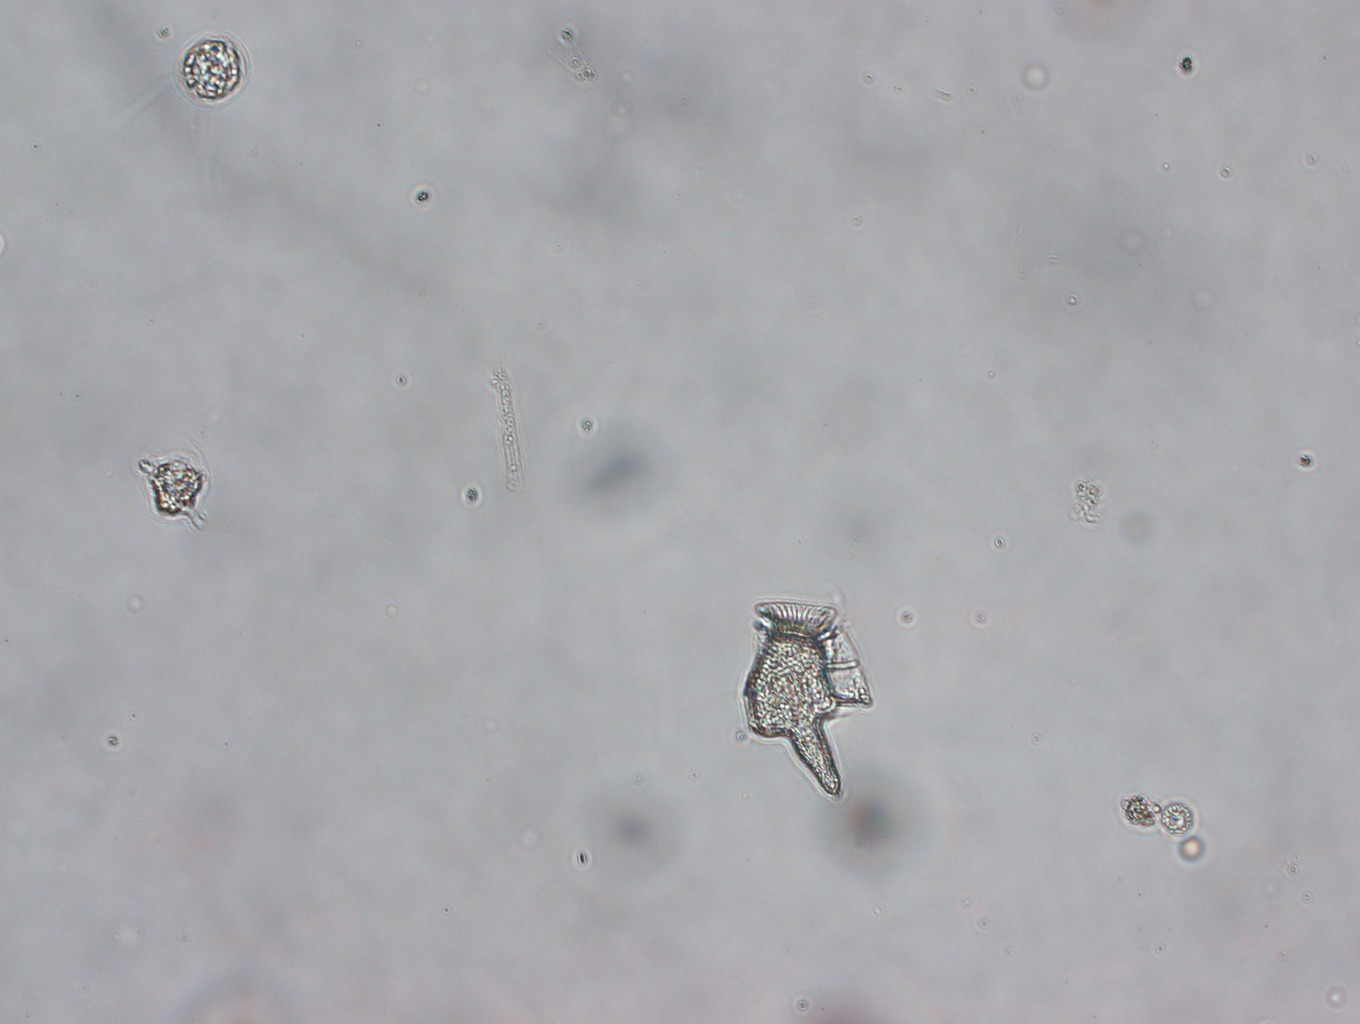dinophysis caudata: (740, 600, 875, 798)
